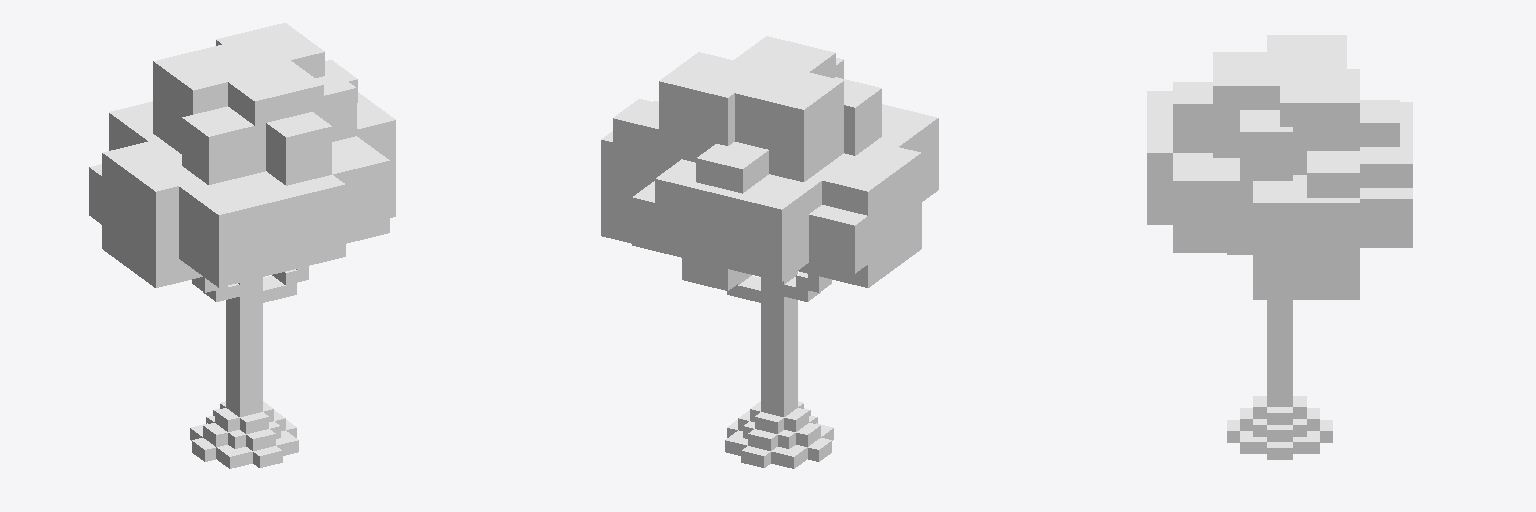
File: blue_tree3.obj
The picture shows the model from 3 angles: view 1: azimuth 30°, elevation 25°; view 2: azimuth 150°, elevation 25°; view 3: azimuth 270°, elevation 25°; orthographic projection.
Visible parts, largest first — view 1: object 1; view 2: object 1; view 3: object 1.
Part boxes in pixels (x1,y1,x2,y2): object 1: (89, 23, 395, 468); object 1: (601, 36, 938, 468); object 1: (1147, 35, 1412, 459).
Size of the model in its own units: 2.2 by 3.1 by 2.